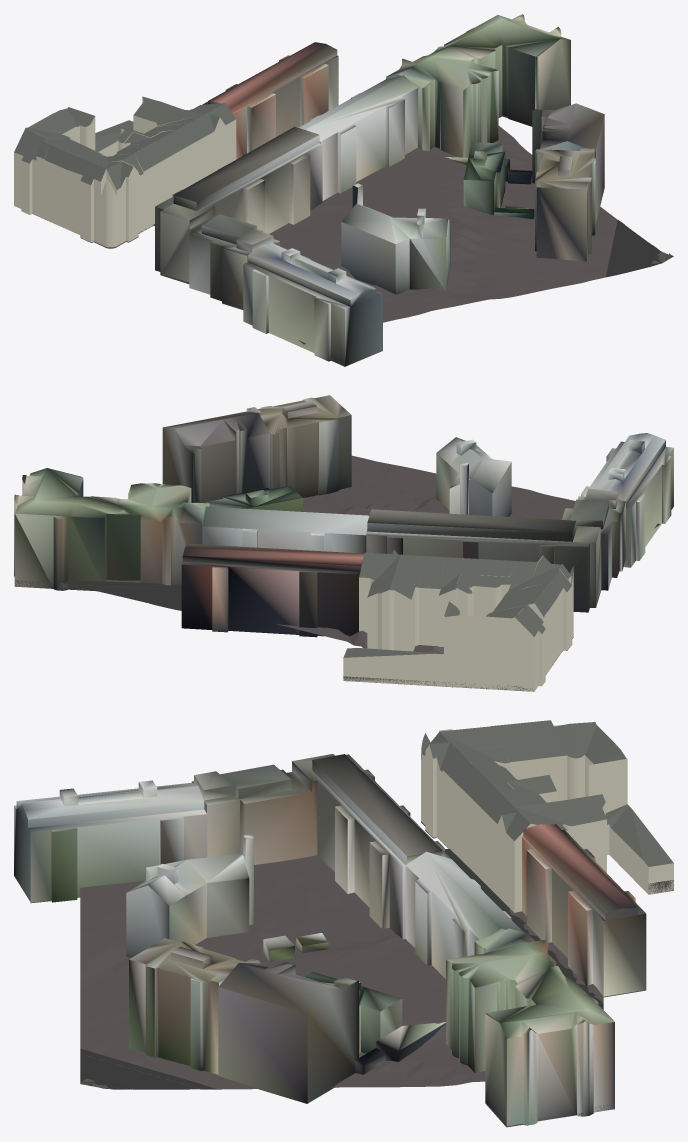
3 renders of one model, top to bottom at view 1: azimuth 30°, elevation 25°; view 2: azimuth 150°, elevation 25°; view 3: azimuth 270°, elevation 25°, orthographic. The views are drawn at different scales.
Parts seen in each view (by area): view 1: c_m01_p10; view 2: c_m01_p10; view 3: c_m01_p10.
Boxes of the visible parts, x1=… form: c_m01_p10: x1=14, y1=14, x2=673, y2=366; c_m01_p10: x1=14, y1=395, x2=673, y2=691; c_m01_p10: x1=14, y1=720, x2=673, y2=1127.
Bounding box in the file's own units: 182 × 29.36 × 161.
